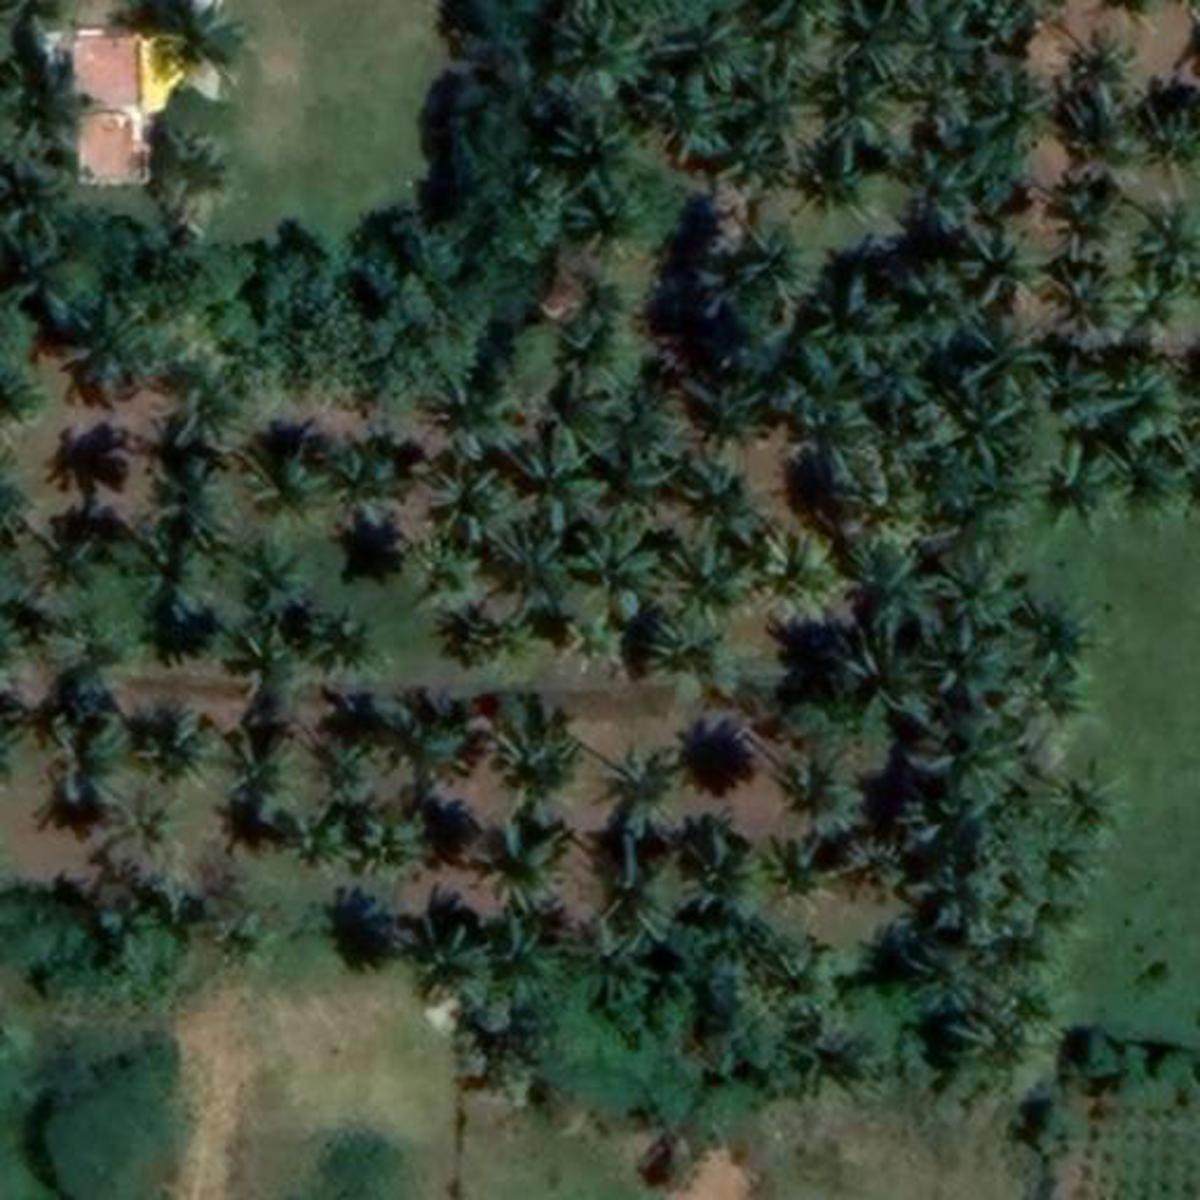coconut: (897, 707, 1033, 816), (480, 689, 623, 789), (585, 822, 693, 946), (698, 208, 822, 314), (759, 522, 869, 637), (930, 538, 1051, 637), (478, 816, 590, 921), (803, 56, 907, 168), (785, 382, 892, 489), (651, 451, 768, 546), (771, 738, 878, 841), (538, 105, 646, 205), (60, 297, 166, 398), (684, 803, 771, 923), (38, 609, 154, 698), (735, 56, 836, 157), (571, 742, 693, 825), (398, 925, 505, 1019), (638, 541, 764, 621), (1010, 588, 1122, 677), (574, 503, 658, 618), (553, 360, 632, 480), (7, 51, 100, 147), (752, 834, 853, 923), (677, 367, 780, 454), (862, 555, 956, 649), (548, 7, 646, 98), (965, 304, 1052, 407), (834, 638, 937, 724), (935, 391, 1033, 478), (145, 4, 262, 77), (1057, 264, 1149, 353), (1059, 18, 1146, 110), (815, 281, 909, 367), (635, 616, 745, 689), (1047, 764, 1134, 855), (944, 225, 1035, 311), (393, 703, 480, 792), (145, 454, 236, 538), (492, 522, 581, 607), (236, 541, 330, 621), (133, 705, 227, 785), (895, 944, 991, 1021), (210, 623, 309, 698), (421, 382, 522, 454), (1125, 201, 1200, 297), (897, 255, 977, 344), (670, 11, 762, 89), (311, 614, 412, 682), (358, 810, 440, 895), (135, 548, 216, 632), (182, 367, 260, 454), (1038, 447, 1122, 527), (100, 789, 182, 869), (327, 445, 412, 522), (911, 0, 989, 82), (431, 475, 515, 549), (1108, 377, 1200, 445), (869, 338, 942, 424), (32, 538, 116, 607), (1134, 86, 1200, 173), (1051, 171, 1116, 251), (241, 459, 321, 522), (836, 4, 907, 75), (977, 77, 1057, 138), (278, 801, 344, 871), (904, 157, 982, 208), (234, 733, 295, 785)
